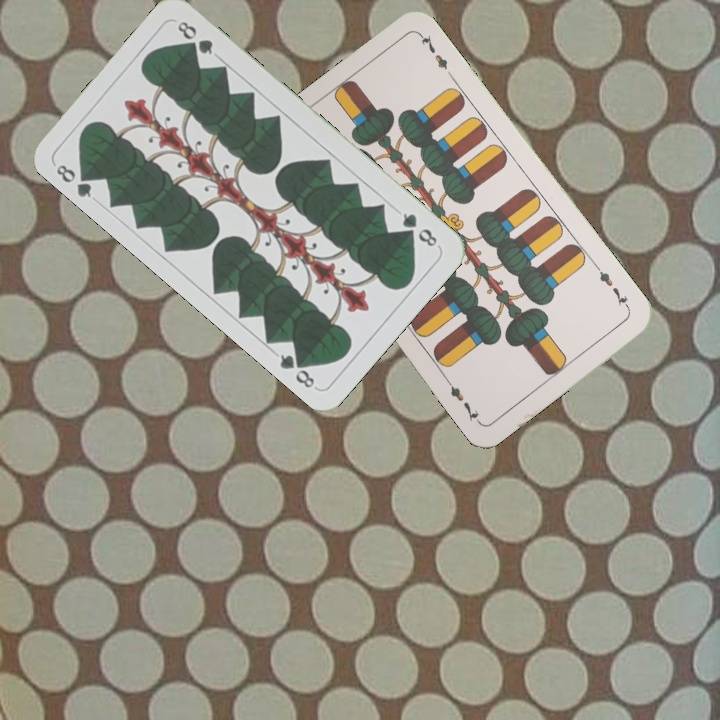E7: (592, 261, 633, 312)
G8: (52, 160, 98, 201), (397, 208, 440, 250)
